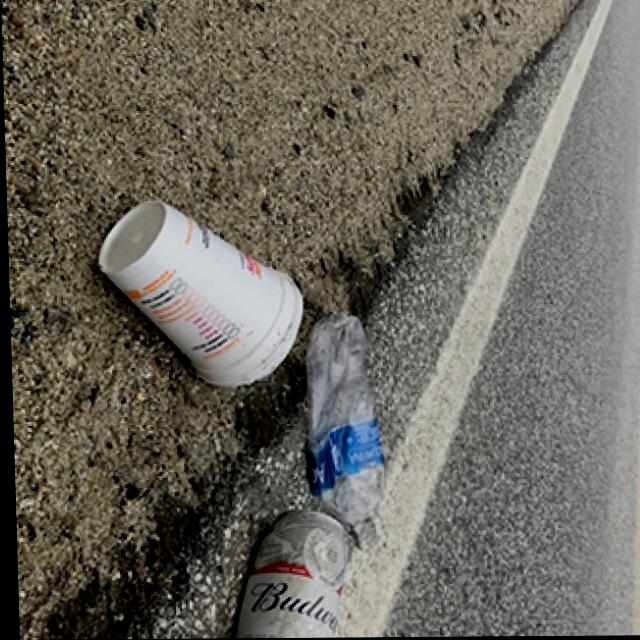Can-Metal: (218, 498, 378, 639)
Cup: (82, 188, 310, 395)
Plastic: (293, 305, 399, 558)
Trash -everything else-: (371, 516, 374, 518)
